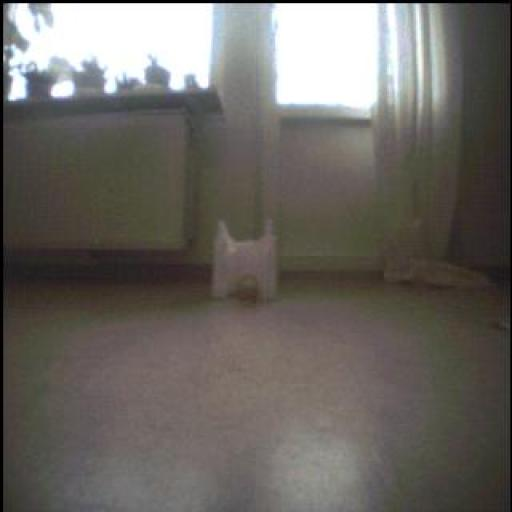Basket: (234, 273, 256, 300)
